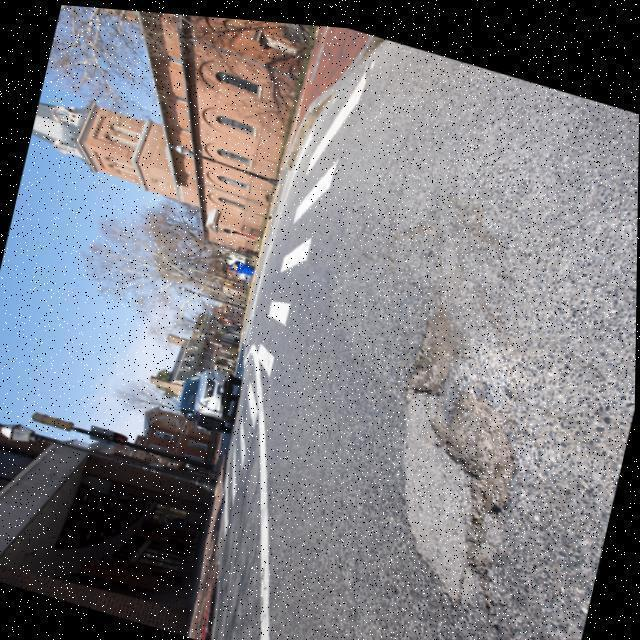Pothole: (417, 382, 523, 608), (395, 308, 462, 401)
